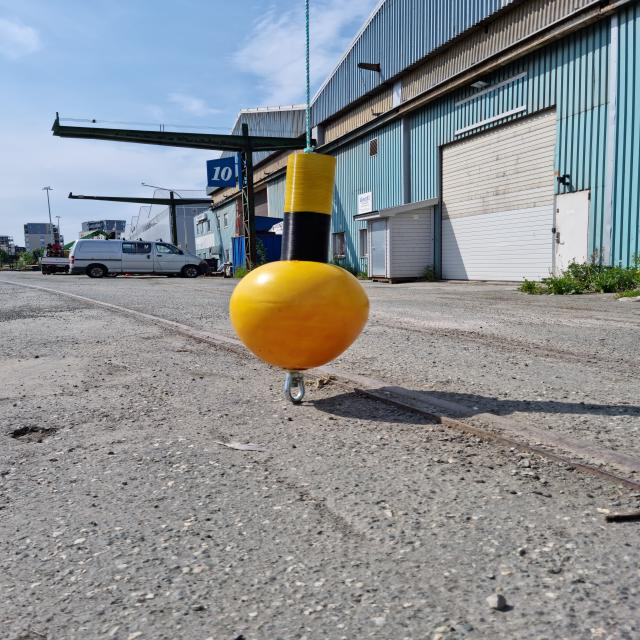west: (228, 151, 372, 370)
